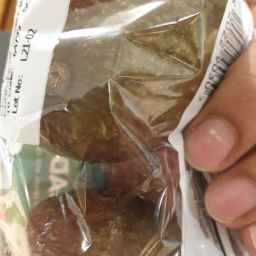Avocado: (43, 2, 177, 256)
